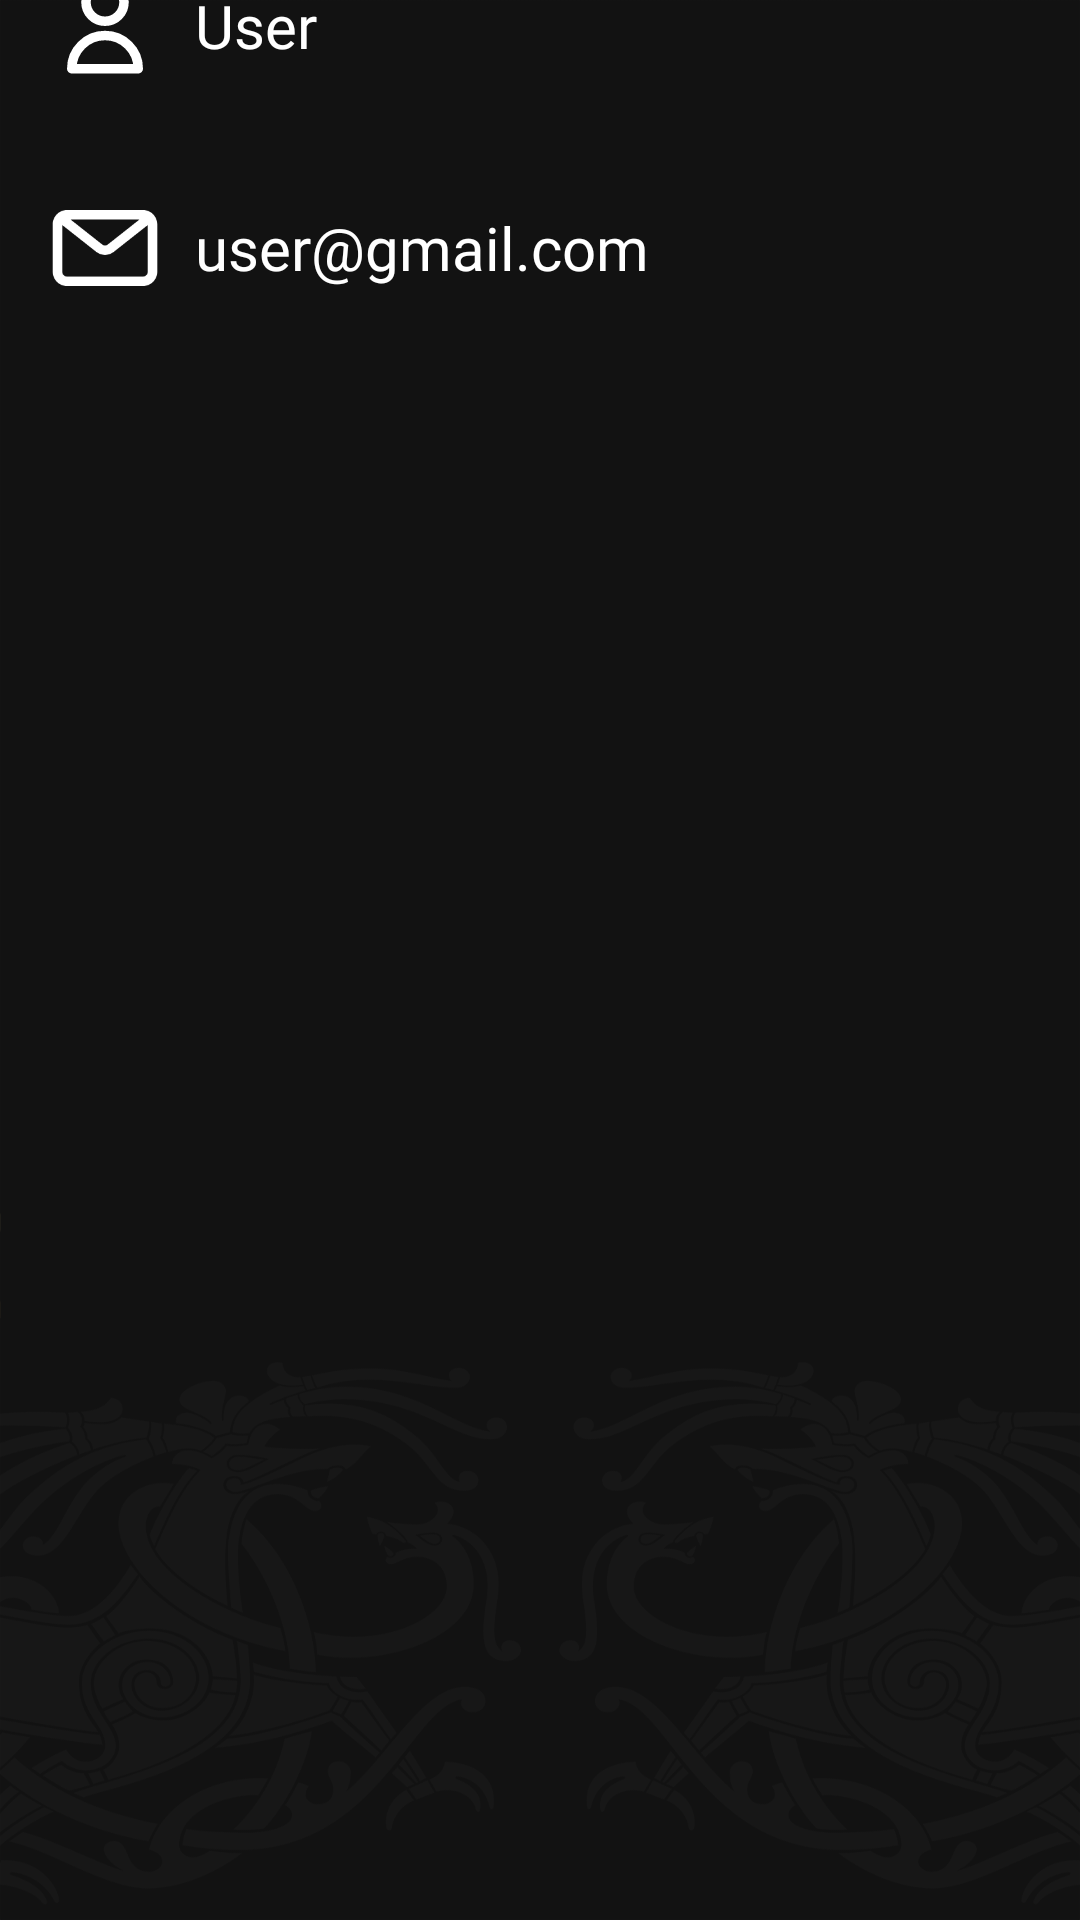

Where to tap for icons on this 1080px x 1920px app screen, as point (x, y):
email: point (105, 248)
